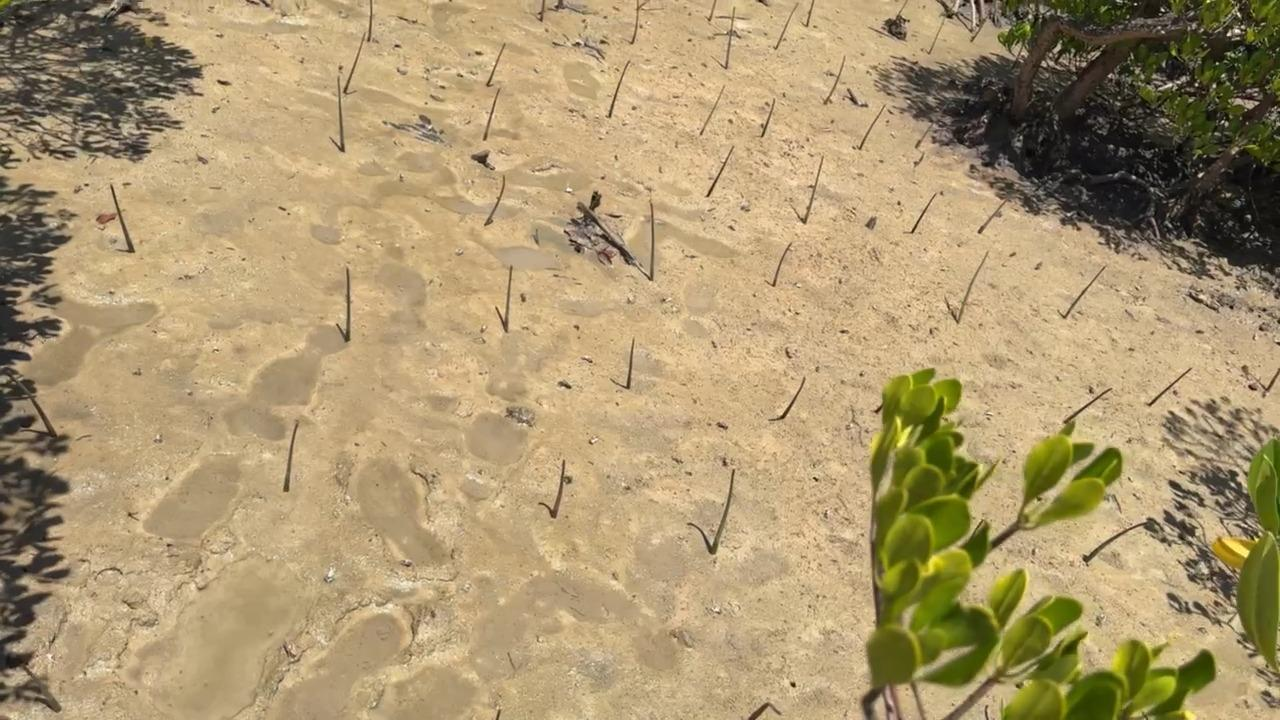Tree: (6, 372, 58, 437), (1086, 520, 1151, 562), (709, 470, 737, 554), (957, 252, 989, 324), (1064, 266, 1106, 317), (22, 665, 62, 711), (109, 183, 135, 251), (915, 100, 951, 149), (1063, 389, 1112, 423), (1148, 368, 1191, 405), (344, 33, 366, 94), (804, 156, 824, 223), (707, 147, 734, 196), (859, 105, 887, 150), (608, 61, 630, 117), (822, 54, 846, 105), (978, 196, 1010, 233), (701, 86, 725, 135), (776, 1, 799, 49), (483, 174, 505, 224), (283, 423, 298, 492), (911, 194, 936, 234), (782, 378, 806, 417), (772, 243, 792, 286), (552, 459, 566, 518), (484, 90, 500, 141), (487, 43, 505, 85), (336, 76, 345, 153), (503, 267, 513, 332), (760, 98, 776, 138), (726, 6, 735, 69), (749, 703, 782, 720), (929, 18, 943, 53), (346, 266, 352, 342), (970, 16, 988, 41), (627, 339, 636, 389), (366, 0, 374, 42), (651, 203, 655, 282), (632, 0, 639, 45), (1267, 368, 1280, 392), (894, 0, 908, 21), (806, 0, 815, 27), (708, 0, 718, 20), (539, 0, 544, 21), (495, 710, 502, 720)
